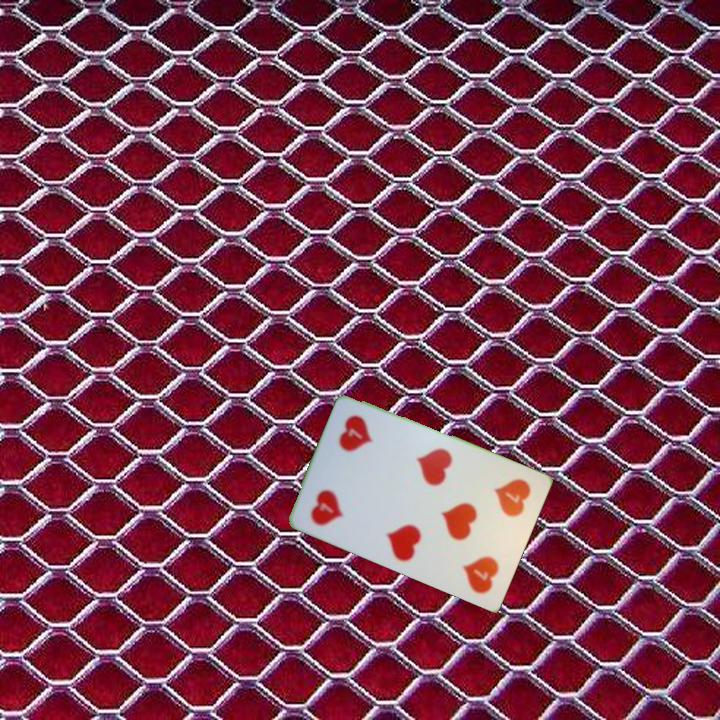h_7.png: (298, 458, 375, 541), (463, 461, 540, 544)
